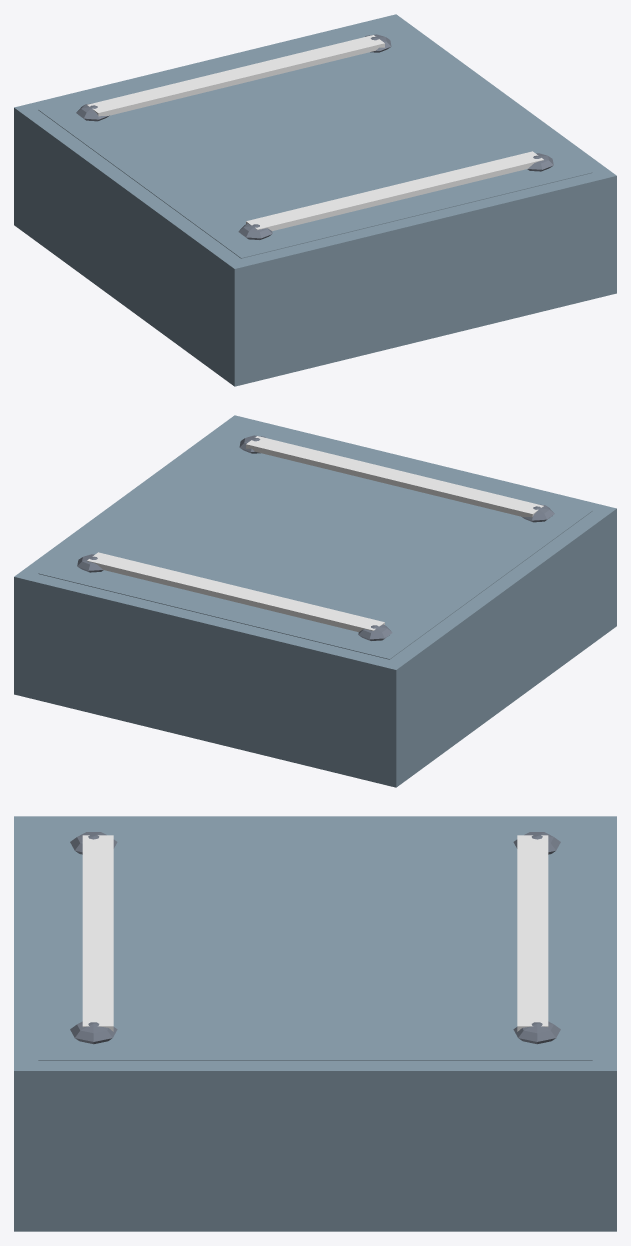
The model's file is losa_salida.glb.
The picture shows the model from 3 angles, top to bottom: view 1: azimuth 30°, elevation 25°; view 2: azimuth 150°, elevation 25°; view 3: azimuth 270°, elevation 25°; orthographic projection. The views are drawn at different scales.
Visible parts, largest first — view 1: losa_salida; view 2: losa_salida; view 3: losa_salida.
Part boxes in pixels (x1,y1,x2,y2): losa_salida: [14, 14, 616, 386]; losa_salida: [14, 415, 616, 787]; losa_salida: [14, 816, 616, 1231].
Size of the model in its own units: 1.36 by 0.434 by 1.36.
